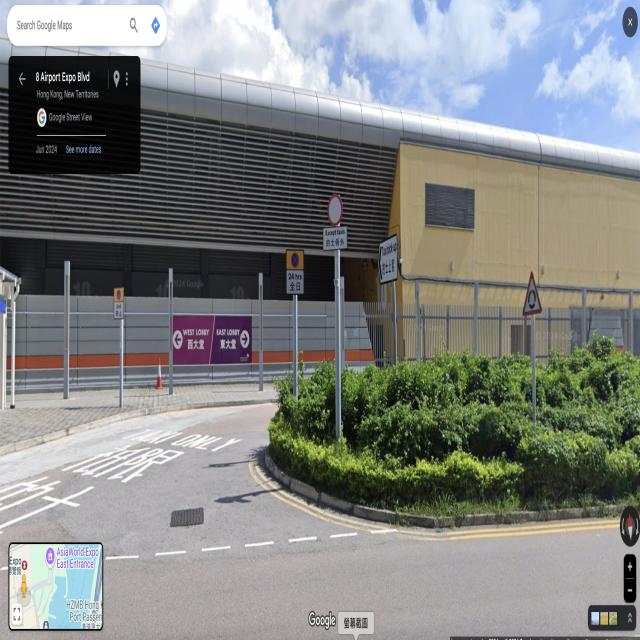Direction-Sign: (378, 234, 397, 284)
Order-Sign: (286, 250, 304, 294), (323, 228, 348, 248), (328, 195, 343, 225), (114, 288, 124, 319)
Warning-Sign: (522, 270, 542, 315)
